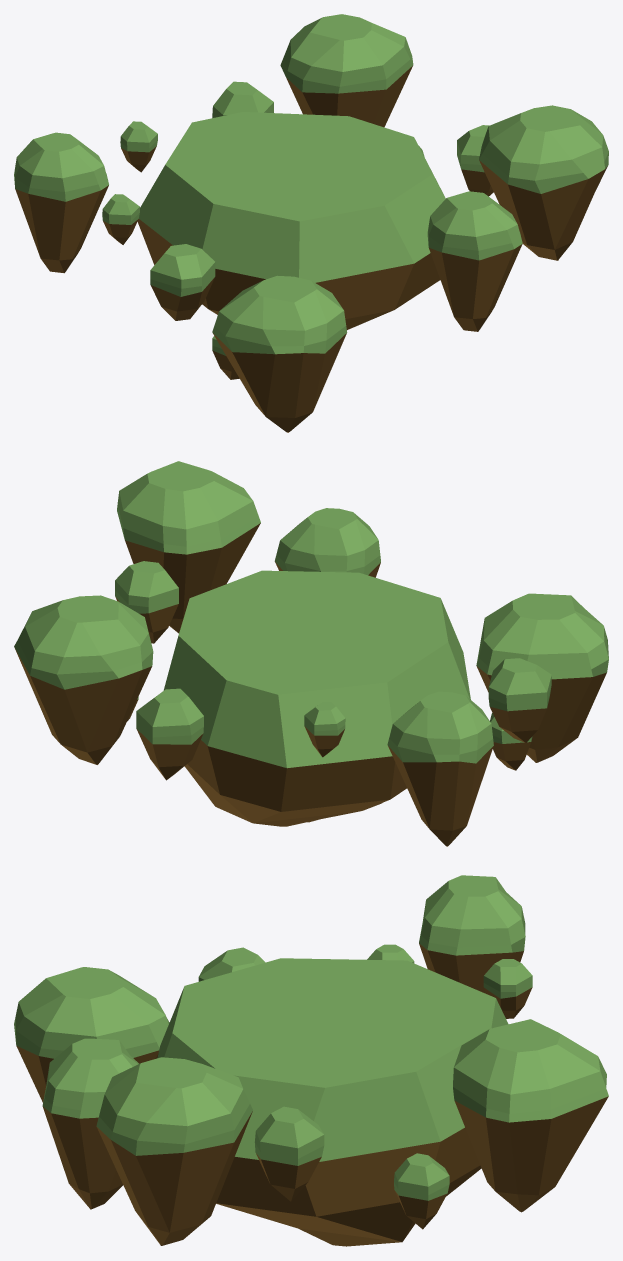
The model's file is Island.fbx.
3 views of the same model, one above another, from view 1: azimuth 30°, elevation 25°; view 2: azimuth 150°, elevation 25°; view 3: azimuth 270°, elevation 25° (orthographic). The views are drawn at different scales.
Visible parts, largest first — view 1: Island.001, Cube.017, Cube.009, Cube.019, Island, Cube.008, Cube.016, Cube.029, Cube.007, Cube.005, Cube.028, Cube.018 (+6 smaller); view 2: Island.001, Island, Cube.019, Cube.017, Cube.009, Cube.018, Cube.007, Cube.029, Cube.005, Cube.016, Cube.008, Cube.023 (+8 smaller); view 3: Island.001, Island, Cube.019, Cube.017, Cube.009, Cube.018, Cube.016, Cube.007, Cube.029, Cube.028, Cube.027, Cube.005 (+8 smaller).
Part boxes in pixels (left/top/right/bottom): Island.001: left=139, top=112, right=445, bottom=282; Cube.017: left=479, top=105, right=608, bottom=193; Cube.009: left=212, top=275, right=347, bottom=354; Cube.019: left=280, top=14, right=413, bottom=93; Island: left=137, top=219, right=440, bottom=329; Cube.008: left=213, top=333, right=346, bottom=432; Cube.016: left=479, top=160, right=607, bottom=260; Cube.029: left=427, top=191, right=522, bottom=260; Cube.007: left=14, top=132, right=108, bottom=201; Cube.005: left=15, top=185, right=108, bottom=273; Cube.028: left=429, top=244, right=522, bottom=331; Cube.018: left=286, top=66, right=412, bottom=127; Island.001: left=163, top=570, right=470, bottom=768; Island: left=184, top=740, right=406, bottom=826; Cube.019: left=14, top=595, right=153, bottom=689; Cube.017: left=117, top=461, right=260, bottom=554; Cube.009: left=476, top=593, right=608, bottom=679; Cube.018: left=15, top=649, right=152, bottom=764; Cube.007: left=387, top=691, right=493, bottom=763; Cube.029: left=275, top=508, right=380, bottom=575; Cube.005: left=388, top=746, right=493, bottom=846; Cube.016: left=125, top=523, right=260, bottom=633; Cube.008: left=476, top=666, right=606, bottom=762; Cube.023: left=136, top=688, right=203, bottom=744; Island.001: left=157, top=958, right=508, bottom=1161; Island: left=216, top=1127, right=481, bottom=1246; Cube.019: left=453, top=1019, right=608, bottom=1122; Cube.017: left=96, top=1057, right=252, bottom=1155; Cube.009: left=14, top=967, right=169, bottom=1058; Cube.018: left=454, top=1096, right=608, bottom=1212; Cube.016: left=96, top=1111, right=252, bottom=1245; Cube.007: left=419, top=875, right=525, bottom=955; Cube.029: left=42, top=1038, right=138, bottom=1118; Cube.028: left=42, top=1106, right=122, bottom=1209; Cube.027: left=254, top=1106, right=324, bottom=1165; Cube.005: left=419, top=943, right=523, bottom=993.
Bounding box in the file's own units: 1753 × 828 × 1627.
